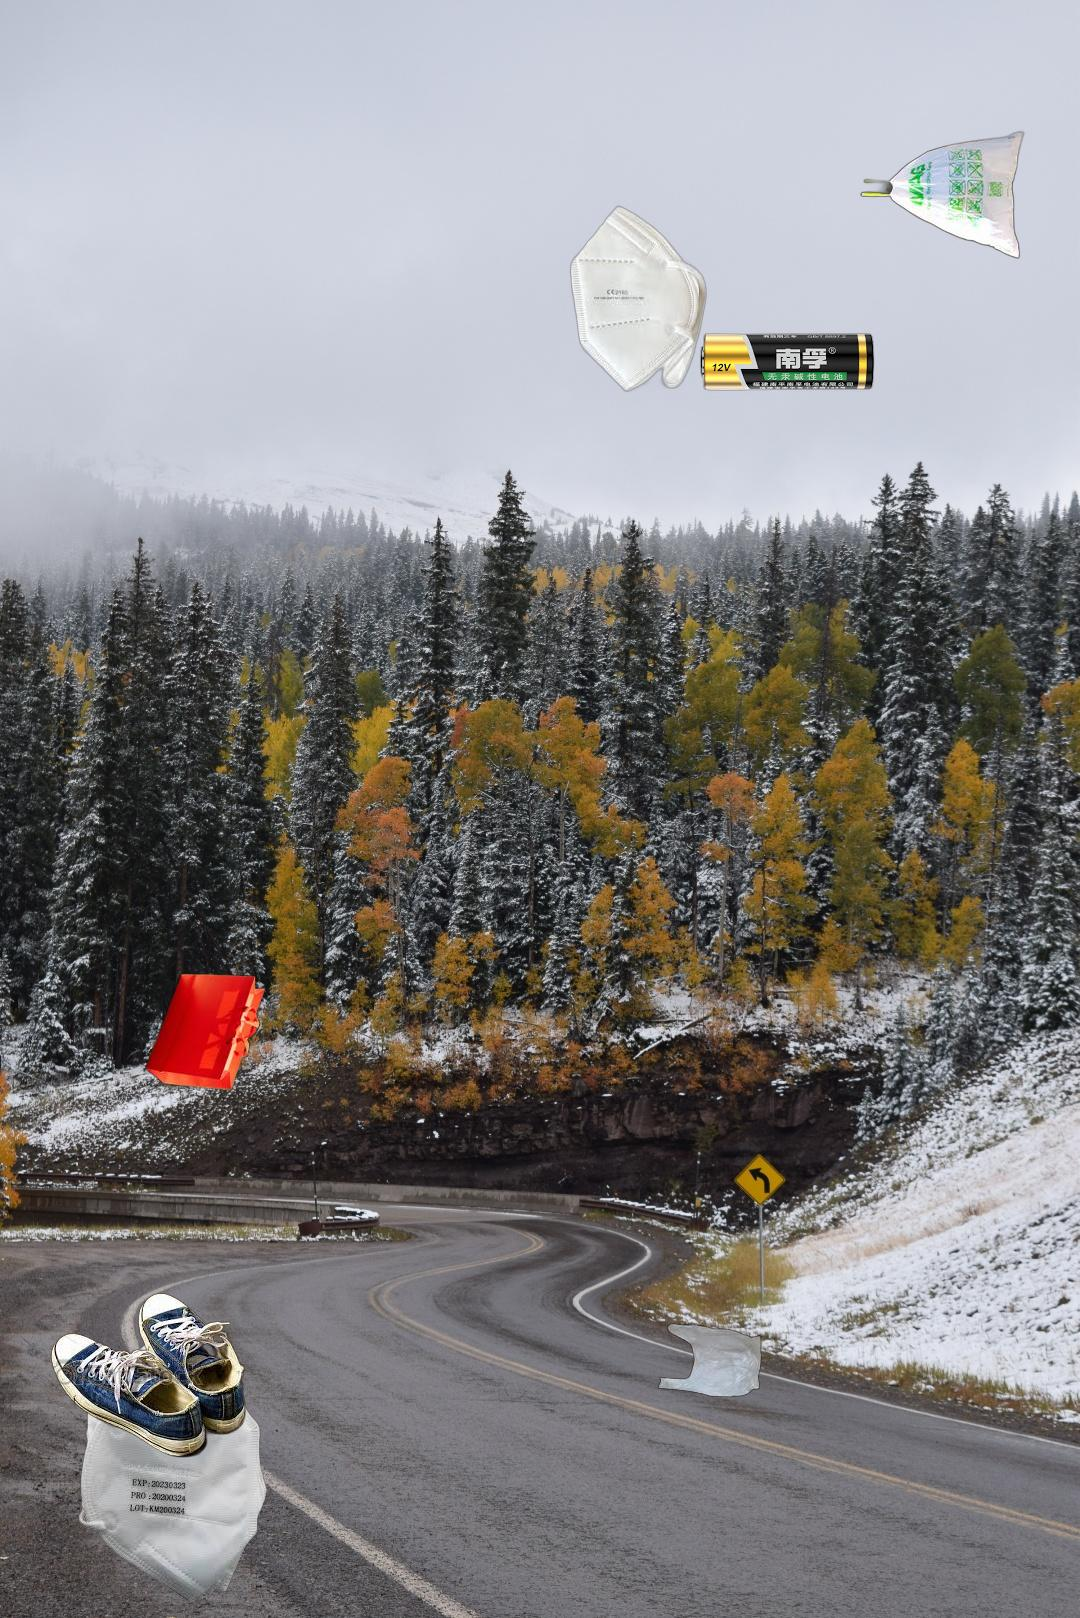battery: (699, 331, 875, 393)
paper-bag: (143, 972, 337, 1158)
plastic-bag: (858, 129, 1027, 261), (655, 1320, 764, 1400)
plastic-bottles: (1041, 989, 1080, 1405)
shoes: (48, 1292, 248, 1460)
trash: (80, 1336, 268, 1604), (568, 202, 709, 394)
